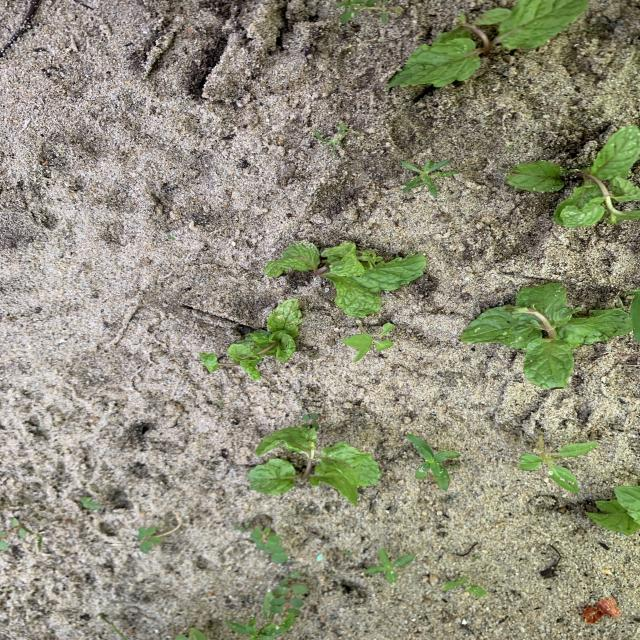crop: (463, 284, 631, 387), (391, 2, 587, 87), (507, 127, 639, 227), (266, 242, 426, 316), (249, 427, 380, 503), (201, 299, 303, 378), (586, 484, 639, 534)
weed: (520, 431, 597, 491), (408, 435, 459, 489), (341, 321, 394, 362), (402, 160, 458, 195), (312, 122, 362, 161), (264, 575, 307, 619), (365, 548, 415, 583), (252, 527, 287, 562), (227, 616, 280, 639), (335, 0, 378, 23), (137, 526, 162, 553), (101, 614, 127, 639), (379, 0, 402, 22), (443, 577, 468, 591), (302, 413, 320, 427), (81, 497, 100, 509), (234, 520, 251, 531), (34, 532, 43, 551), (506, 145, 515, 151), (168, 234, 174, 239)
